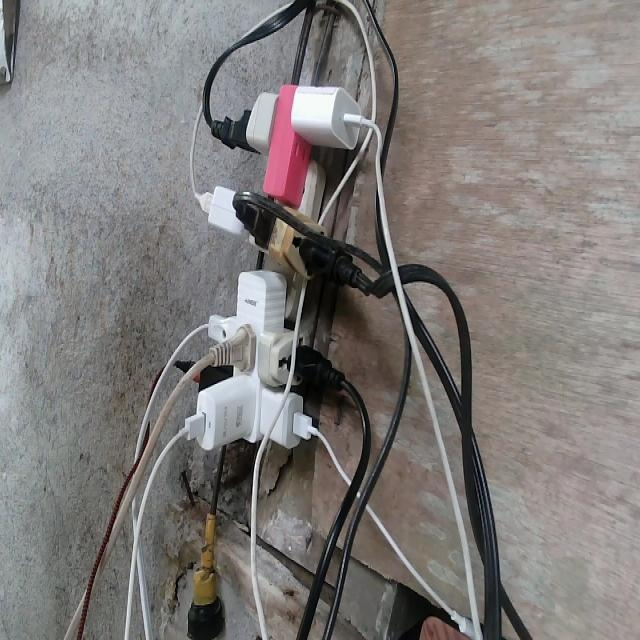-: (178, 74, 371, 458)
